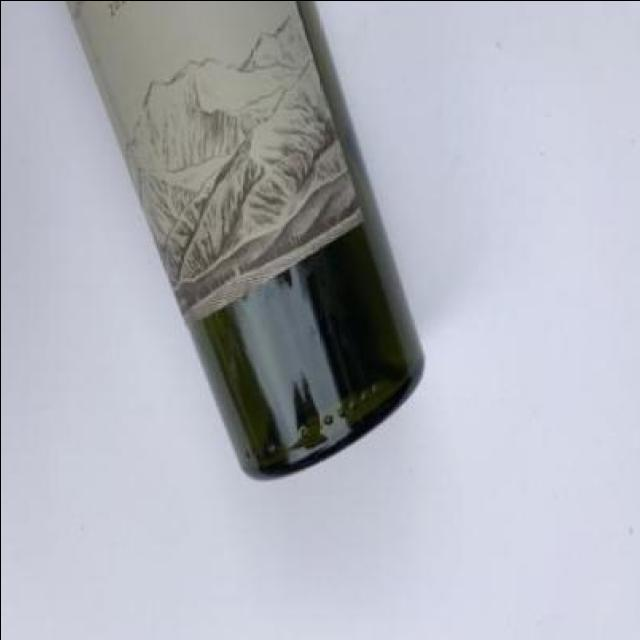kaca: (62, 0, 425, 483)
